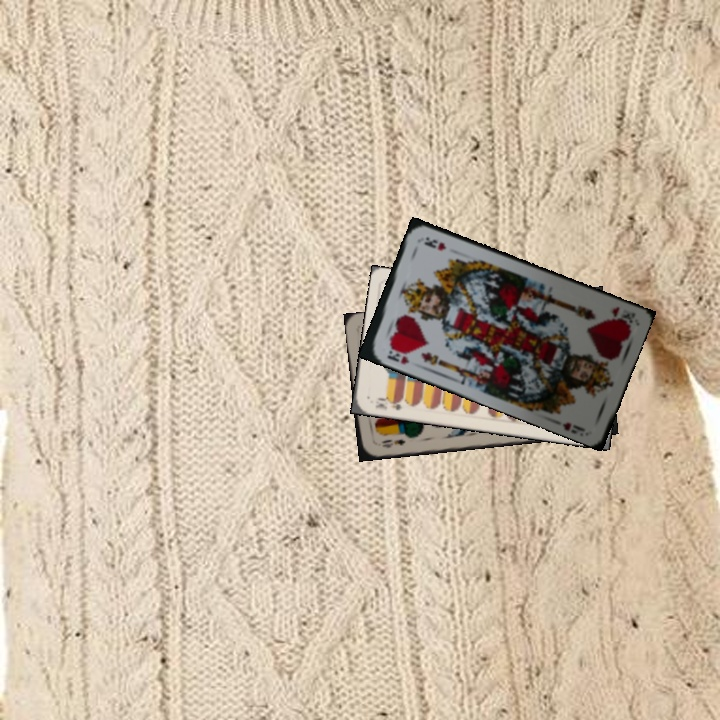E10: (371, 393, 408, 413)
EO: (377, 435, 408, 450)
HK: (607, 303, 637, 327), (383, 346, 412, 367)
